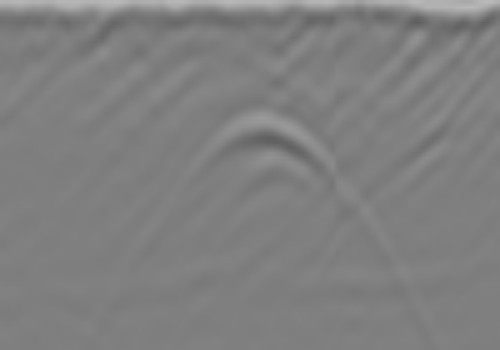hyperbola: (128, 104, 405, 282)
